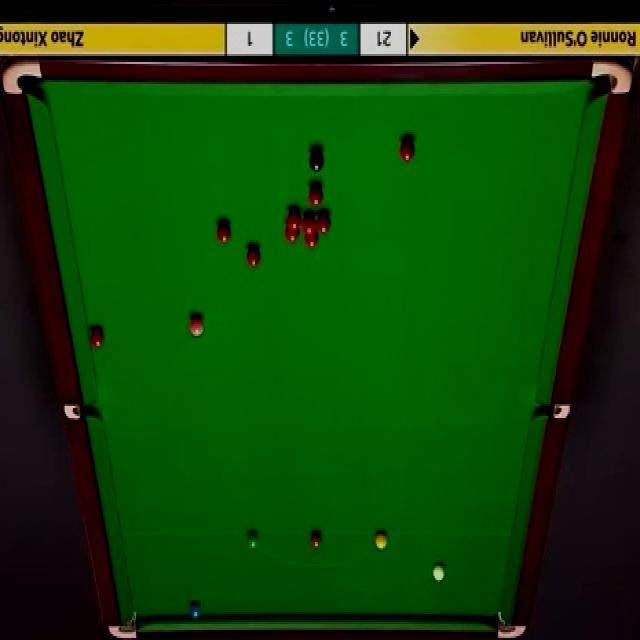pocket: (590, 58, 633, 97), (4, 60, 45, 97), (106, 608, 140, 640), (495, 611, 529, 640), (65, 403, 99, 422), (536, 403, 572, 419)
